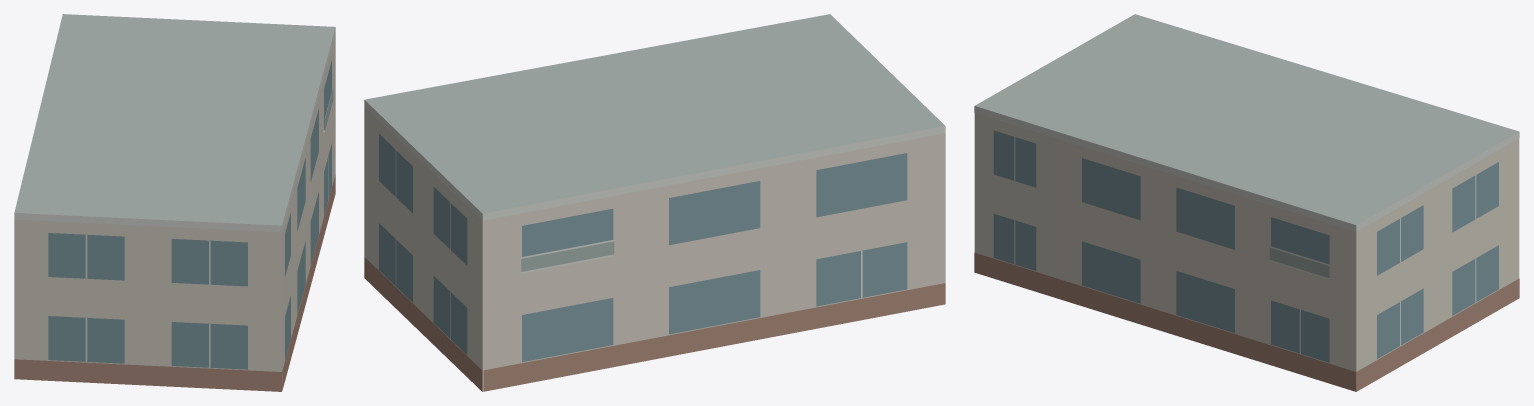
The model's file is survey-upis-32576797.glb.
The picture shows the model from 3 angles, left to right: view 1: azimuth 30°, elevation 25°; view 2: azimuth 150°, elevation 25°; view 3: azimuth 270°, elevation 25°; orthographic projection. The views are drawn at different scales.
Parts seen in each view (by area): view 1: survey-upis-32576797.tmp; view 2: survey-upis-32576797.tmp; view 3: survey-upis-32576797.tmp.
Part boxes in pixels (x1,y1,x2,y2): survey-upis-32576797.tmp: (14, 14, 335, 391); survey-upis-32576797.tmp: (364, 14, 945, 391); survey-upis-32576797.tmp: (974, 14, 1519, 391).
Bounding box in the file's own units: 16.59 × 6.1 × 18.08.
